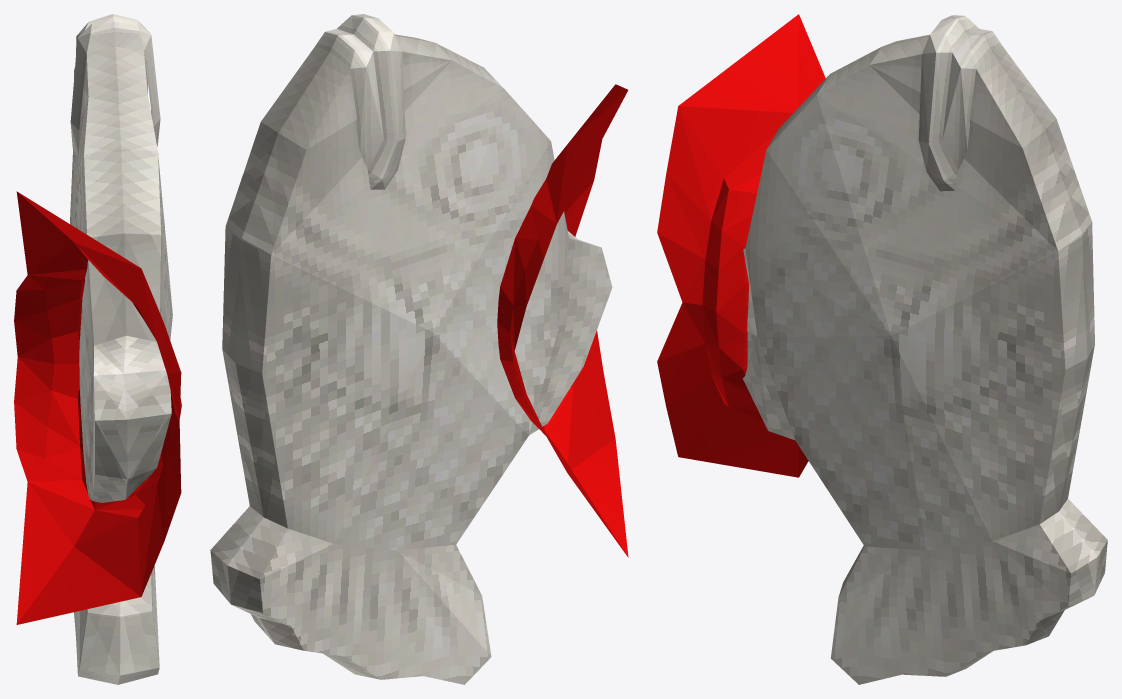
Rendered from options1140.obj.
3 renders of one model, left to right at view 1: azimuth 30°, elevation 25°; view 2: azimuth 150°, elevation 25°; view 3: azimuth 270°, elevation 25°, orthographic. The views are drawn at different scales.
Parts seen in each view (by area): view 1: options1140; view 2: options1140; view 3: options1140.
Boxes of the visible parts, x1,y1,x2,y2 form: options1140: [14, 14, 181, 684]; options1140: [210, 14, 628, 684]; options1140: [657, 14, 1107, 684].
Bounding box in the file's own units: 0.0957 × 0.2226 × 0.1345.
Materials: 2 (1 with a texture image).
